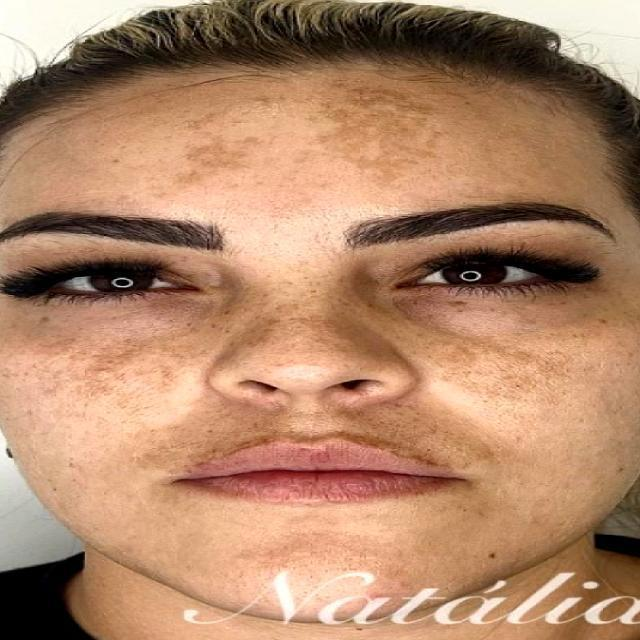Melasma: (174, 90, 444, 191), (378, 303, 576, 407), (22, 300, 229, 399), (215, 290, 398, 365)
